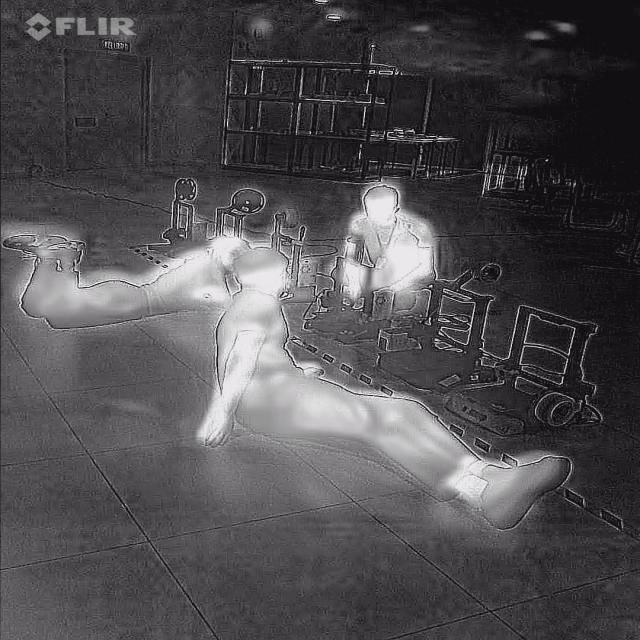Victim: (190, 241, 572, 534), (0, 205, 253, 328), (326, 174, 456, 322)
